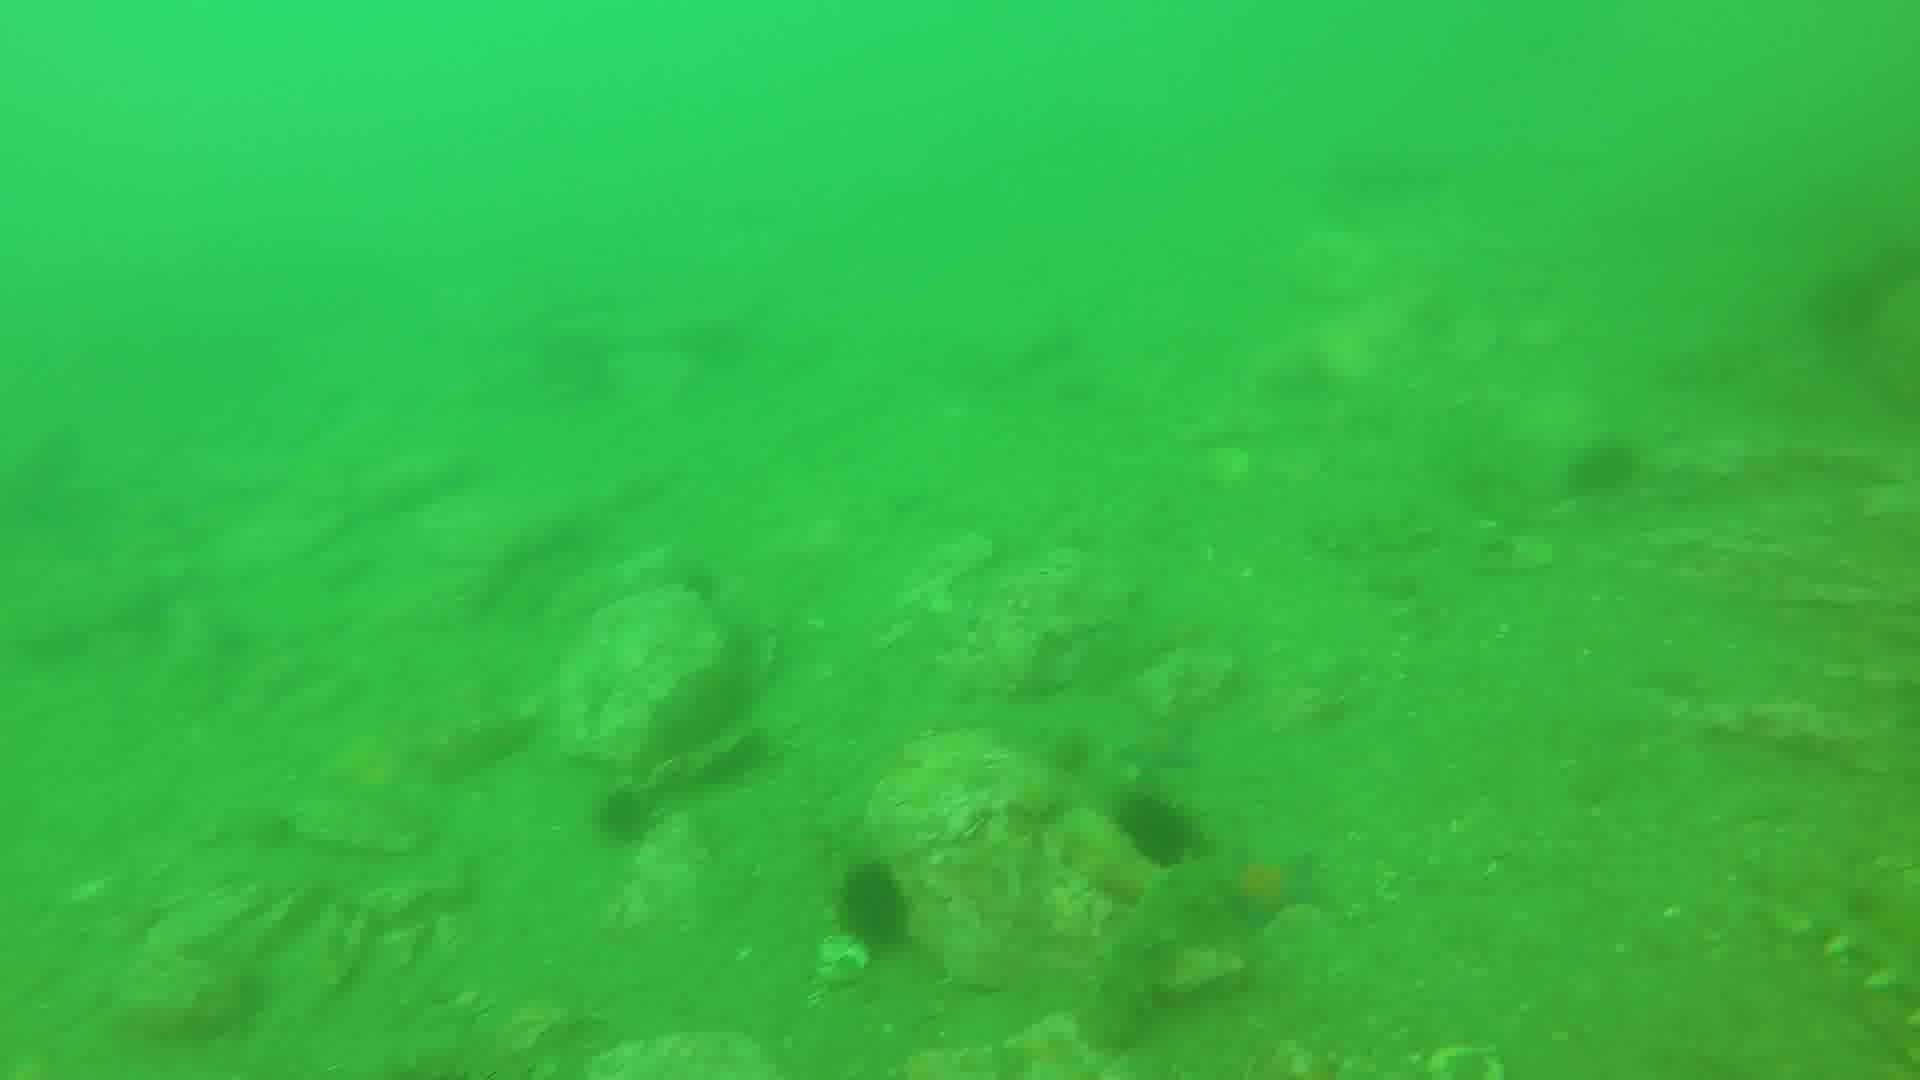echinus: (828, 858, 916, 956), (1110, 790, 1204, 873), (1563, 434, 1646, 504), (587, 783, 663, 851), (1040, 725, 1100, 781)
holothurian: (1756, 847, 1919, 1004), (1080, 861, 1207, 1051), (1304, 497, 1447, 563)
starfish: (1211, 841, 1329, 936), (313, 724, 425, 814), (1112, 716, 1203, 778)
